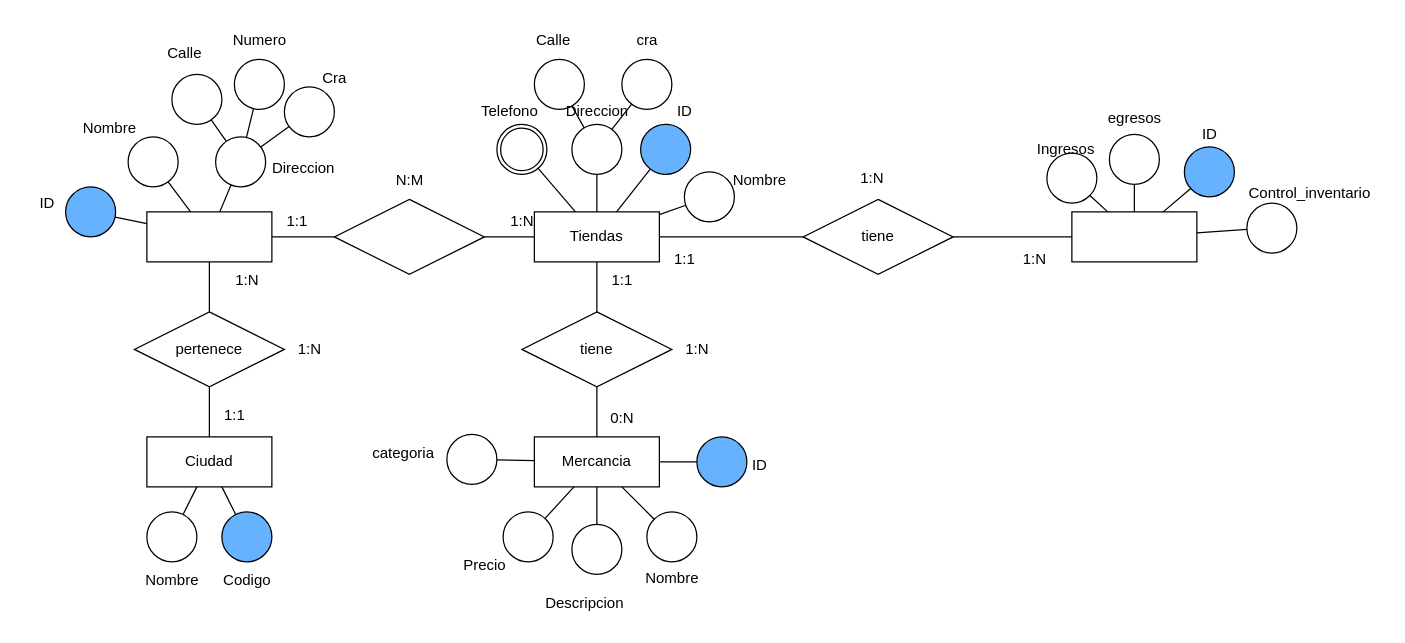
Some shapes in this 1405 by 643 pixel diagram are drawn without their labels. Here are the shapes that lost their labels. From the top down, the centre of each, then its label:
At (209,236): "Barrios".
At (408,236): "posee".
At (1134,236): "Registro".
